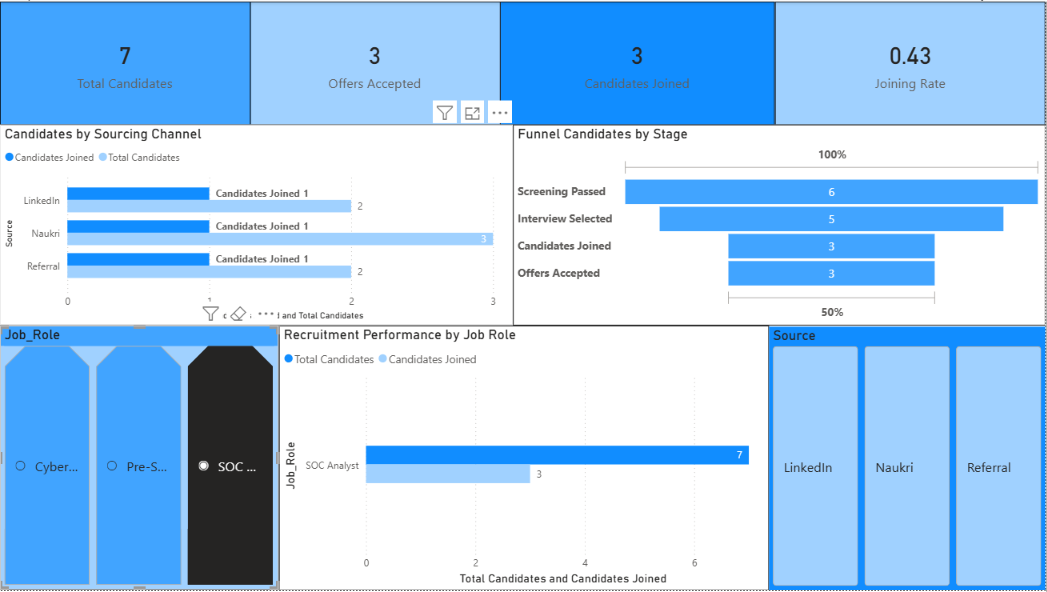

What the dashboard file says about the page in this screenshot:
{"tool":"powerbi","page":{"name":"Page 1","canvas":[1280,720],"ordinal":0},"visuals":[{"type":"card","fields":{"Values":["Table1.Candidates Joined"]},"box":[612,0,336.2,150.9],"z":0},{"type":"card","fields":{"Values":["Table1.Offers Accepted"]},"box":[306,0,306,150.9],"z":1},{"type":"card","fields":{"Values":["Table1.Total Candidates"]},"box":[0,0,306,150.9],"z":2},{"type":"card","fields":{"Values":["Table1.Joining Rate"]},"box":[948.2,0,332.1,150.9],"z":3},{"type":"clusteredBarChart","title":"Candidates by Sourcing Channel","fields":{"Category":["Table1.Source"],"Y":["Table1.Candidates Joined","Table1.Total Candidates"]},"box":[0,150.5,627.4,245.6],"z":4},{"type":"funnel","fields":{"Category":["Recruitment_Stages.Stage"],"Y":["Recruitment_Stages.Funnel Candidates"]},"box":[627.1,150.9,653.2,245.6],"z":5},{"type":"clusteredBarChart","title":"Recruitment Performance by Job Role","fields":{"Category":["Table1.Job_Role"],"Y":["Table1.Total Candidates","Table1.Candidates Joined"]},"box":[340.7,396,599,323.6],"z":6},{"type":"advancedSlicerVisual","fields":{"Values":["Table1.Job_Role"]},"box":[0,396,340.7,323.6],"z":7},{"type":"advancedSlicerVisual","fields":{"Values":["Table1.Source"]},"box":[940,397,340,323],"z":8}]}

Visuals, with their boxes in screenshot pixels (x1, y1, x2, y2), scaled from the page's 1280x720 canvas onto the 1047x592 screenshot:
card - Table1.Candidates Joined: pyautogui.locateOnScreen(501, 0, 776, 124)
card - Table1.Offers Accepted: pyautogui.locateOnScreen(250, 0, 501, 124)
card - Table1.Total Candidates: pyautogui.locateOnScreen(0, 0, 250, 124)
card - Table1.Joining Rate: pyautogui.locateOnScreen(776, 0, 1046, 124)
"Candidates by Sourcing Channel" clusteredBarChart: pyautogui.locateOnScreen(0, 124, 513, 326)
funnel - Recruitment_Stages.Stage x Recruitment_Stages.Funnel Candidates: pyautogui.locateOnScreen(513, 124, 1046, 326)
"Recruitment Performance by Job Role" clusteredBarChart: pyautogui.locateOnScreen(279, 326, 769, 591)
advancedSlicerVisual - Table1.Job_Role: pyautogui.locateOnScreen(0, 326, 279, 591)
advancedSlicerVisual - Table1.Source: pyautogui.locateOnScreen(769, 326, 1046, 591)
